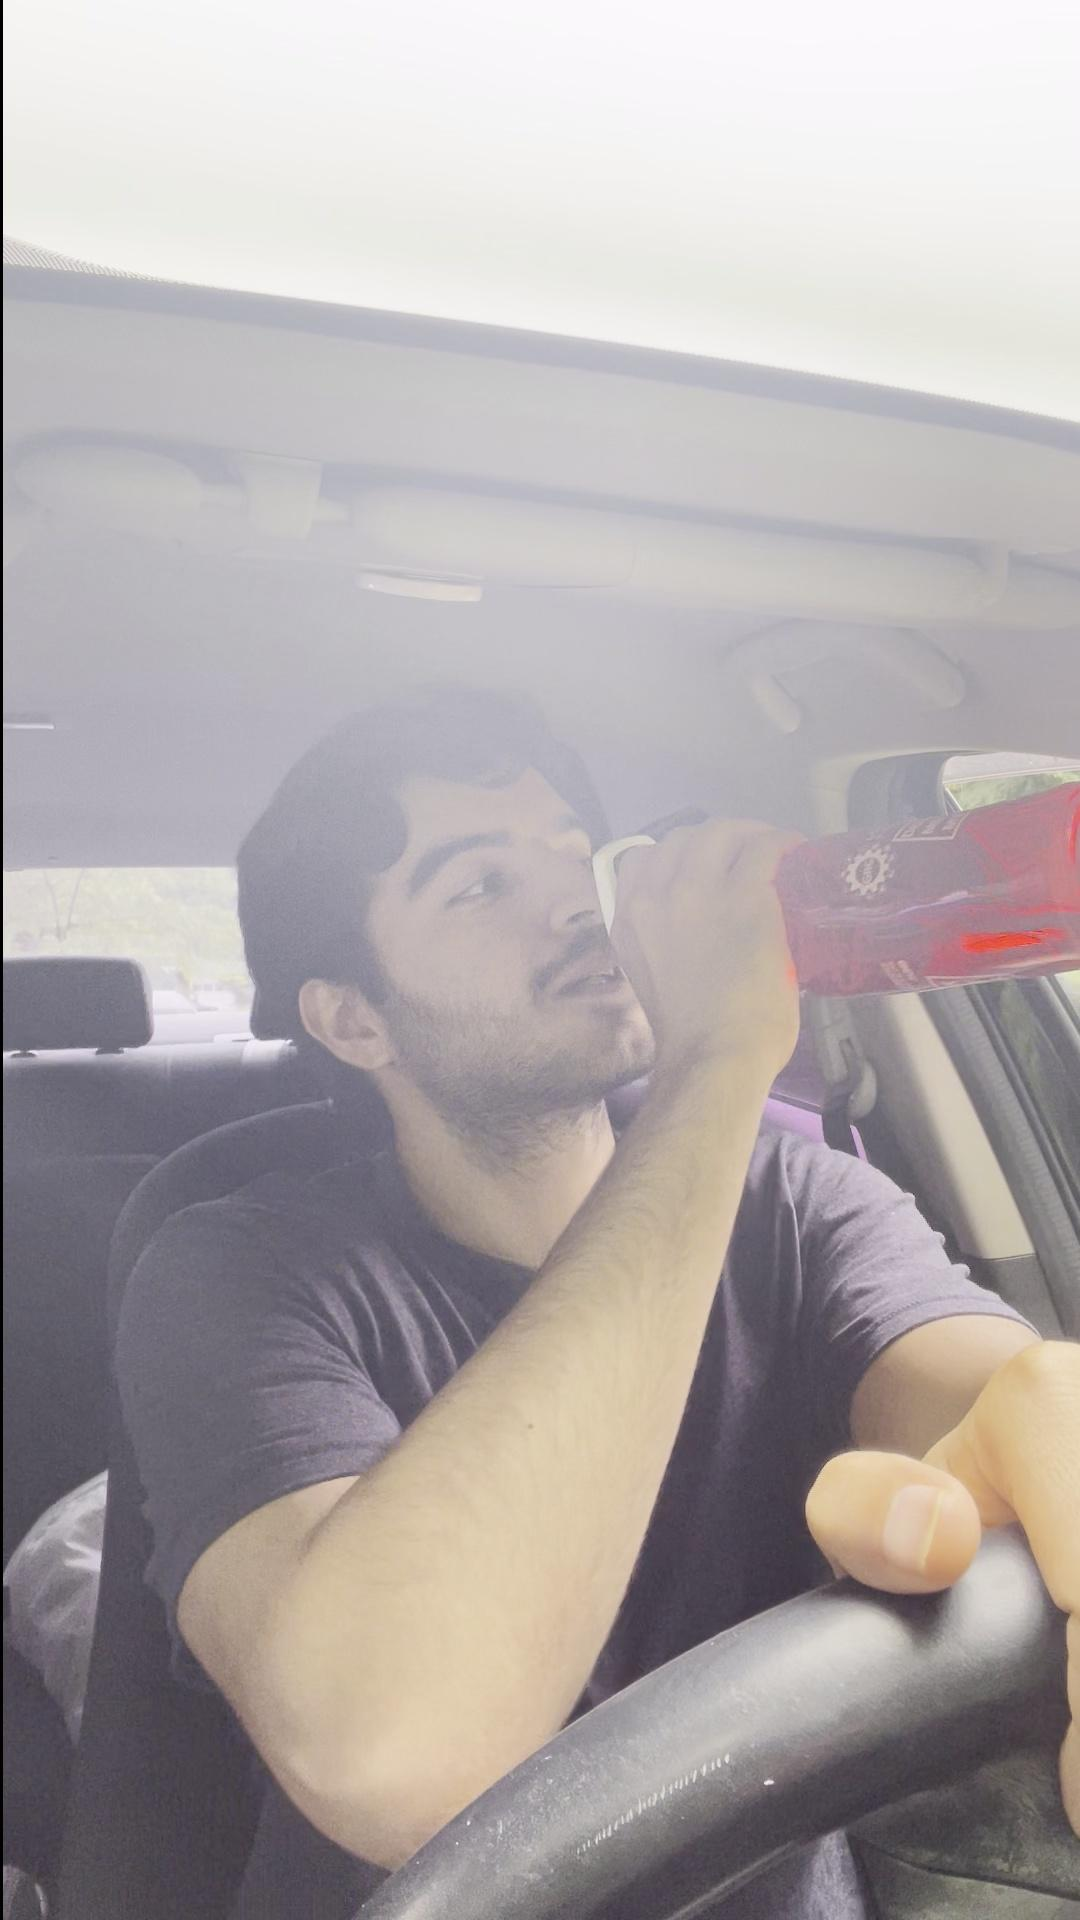drinking: (533, 799, 1080, 1036)
